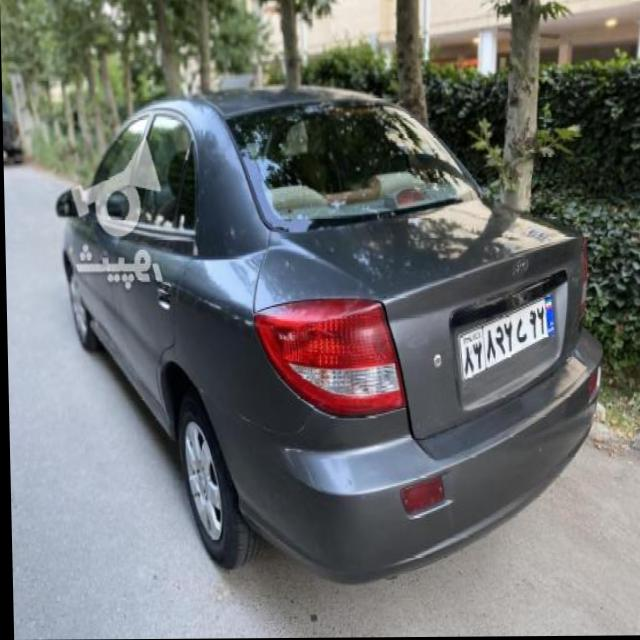licence: (460, 294, 555, 379)
